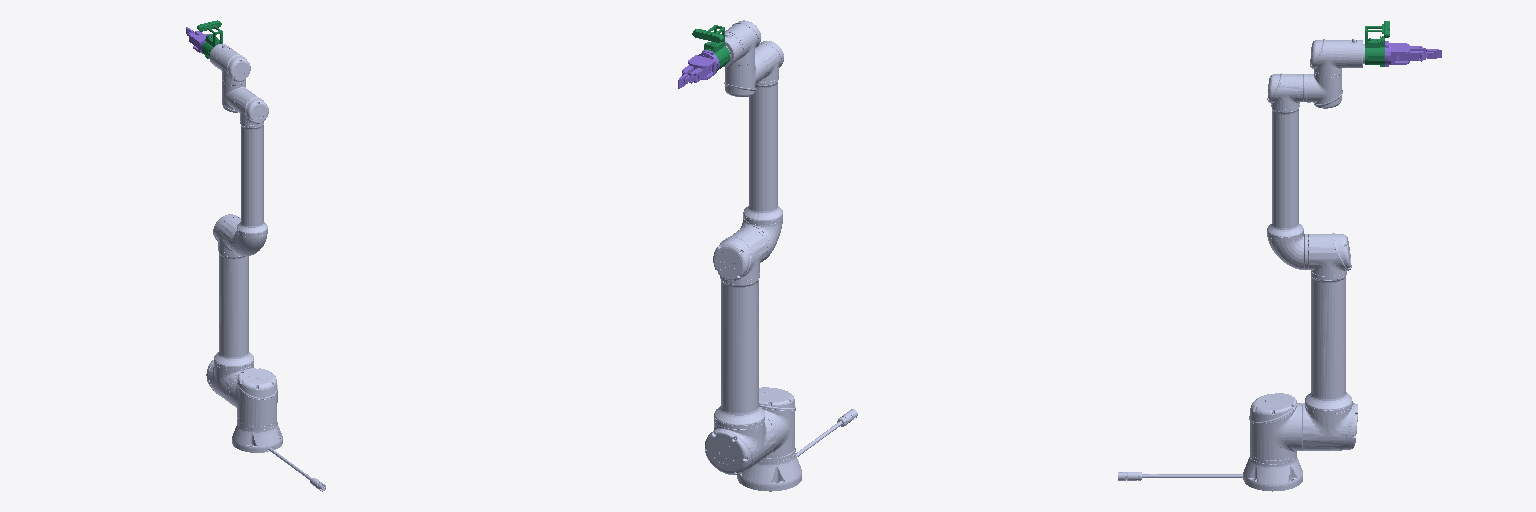
robot.urdf — base_UR:
<?xml version="1.0" encoding="UTF-8"?>
<robot name="base_UR">
	<link name="world" />
	<link name="base_UR">
		<visual>
			<geometry>
				<mesh filename="package://keti_workcell_description/meshes/base1.STL" />
			</geometry>
			<material name="">
				<color rgba="0.89 0.91 0.93 1" />
			</material>
		</visual>
	</link>
	<link name="base_link">
		<visual>
			<geometry>
				<mesh filename="package://keti_workcell_description/meshes/UR10e/base_link.STL" />
			</geometry>
			<material name="">
				<color rgba="0.79216 0.81961 0.9333 1" />
			</material>
		</visual>
	</link>
	<link name="link1">
		<visual>
			<geometry>
				<mesh filename="package://keti_workcell_description/meshes/UR10e/link1.STL" />
			</geometry>
			<material name="">
				<color rgba="0.79216 0.81961 0.93333 1" />
			</material>
		</visual>
	</link>
	<link name="link2">
		<visual>
			<geometry>
				<mesh filename="package://keti_workcell_description/meshes/UR10e/link2.STL" />
			</geometry>
			<material name="">
				<color rgba="0.79216 0.81961 0.93333 1" />
			</material>
		</visual>
	</link>
	<link name="link3">
		<visual>
			<geometry>
				<mesh filename="package://keti_workcell_description/meshes/UR10e/link3.STL" />
			</geometry>
			<material name="">
				<color rgba="0.79216 0.81961 0.93333 1" />
			</material>
		</visual>
	</link>
	<link name="link4">
		<visual>
			<geometry>
				<mesh filename="package://keti_workcell_description/meshes/UR10e/link4.STL" />
			</geometry>
			<material name="">
				<color rgba="0.79216 0.81961 0.93333 1" />
			</material>
		</visual>
	</link>
	<link name="link5">
		<visual>
			<geometry>
				<mesh filename="package://keti_workcell_description/meshes/UR10e/link5.STL" />
			</geometry>
			<material name="">
				<color rgba="0.79216 0.81961 0.93333 1" />
			</material>
		</visual>
	</link>
	<link name="link6">
		<visual>
			<geometry>
				<mesh filename="package://keti_workcell_description/meshes/UR10e/link6.STL" />
			</geometry>
			<material name="">
				<color rgba="0.79216 0.81961 0.93333 1" />
			</material>
		</visual>
	</link>
	<link name="UR_jig">
		<visual>
			<geometry>
				<mesh filename="package://keti_workcell_description/meshes/UR_jig.STL" />
			</geometry>
			<material name="">
				<color rgba="0.69 0.71 0.83 1" />
			</material>
		</visual>
	</link>
	<link name="tool_changer">
		<visual>
			<geometry>
				<mesh filename="package://keti_workcell_description/meshes/tool_changer.STL" />
			</geometry>
			<material name="">
				<color rgba="0.2 0.6 0.4 1" />
			</material>
		</visual>
	</link>
	<link name="koras_2f">
		<visual>
			<geometry>
				<mesh filename="package://keti_workcell_description/meshes/koras_2f.STL" />
			</geometry>
			<material name="">
				<color rgba="0.6 0.5 0.9 1" />
			</material>
		</visual>
	</link>
	<link name="HP_FeederJig">
		<visual>
			<geometry>
				<mesh filename="package://keti_workcell_description/meshes/HP_FeederJig.STL" />
			</geometry>
			<material name="">
				<color rgba="0.5 0.5 0.5 1" />
			</material>
		</visual>
	</link>
	<joint name="base_UR_fixed" type="fixed">
		<origin xyz="0 0 0.0135" rpy="0 0 0" />
		<parent link="world" />
		<child link="base_UR" />
	</joint>
	<joint name="UR_jig_fixed" type="fixed">
		<origin xyz="0.00017 0.04561 0.835" rpy="0 0 0" />
		<parent link="base_UR" />
		<child link="UR_jig" />
	</joint>
	<joint name="base_link_fixed" type="fixed">
		<origin xyz="0 0 0" rpy="0 0 3.1416" />
		<parent link="UR_jig" />
		<child link="base_link" />
	</joint>
	<joint name="q1" type="revolute">
		<origin xyz="0 0 0" rpy="0 0 0" />
		<parent link="base_link" />
		<child link="link1" />
		<axis xyz="0 0 1" />
		<limit lower="-3.14" upper="3.14" effort="100" velocity="10" />
	</joint>
	<joint name="q2" type="revolute">
		<origin xyz="0 0 0.1807" rpy="1.5708 1.5708 0" />
		<parent link="link1" />
		<child link="link2" />
		<axis xyz="0 0 1" />
		<limit lower="-3.14" upper="3.14" effort="100" velocity="10" />
	</joint>
	<joint name="q3" type="revolute">
		<origin xyz="-0.6127 0 0" rpy="0 0 0" />
		<parent link="link2" />
		<child link="link3" />
		<axis xyz="0 0 1" />
		<limit lower="-3.14" upper="3.14" effort="100" velocity="10" />
	</joint>
	<joint name="q4" type="revolute">
		<origin xyz="-0.57155 0 0" rpy="0 0 -1.5708" />
		<parent link="link3" />
		<child link="link4" />
		<axis xyz="0 0 1" />
		<limit lower="-3.14" upper="3.14" effort="100" velocity="10" />
	</joint>
	<joint name="q5" type="revolute">
		<origin xyz="0 0 0.17415" rpy="1.5708 0 0" />
		<parent link="link4" />
		<child link="link5" />
		<axis xyz="0 0 1" />
		<limit lower="-3.14" upper="3.14" effort="100" velocity="10" />
	</joint>
	<joint name="q6" type="revolute">
		<origin xyz="0 0 0.11985" rpy="-1.5708 0 0" />
		<parent link="link5" />
		<child link="link6" />
		<axis xyz="0 0 1" />
		<limit lower="-3.14" upper="3.14" effort="100" velocity="10" />
	</joint>
	<joint name="tool_fixed" type="fixed">
		<origin xyz="0 0 0.18255" rpy="0 0 0" />
		<parent link="link6" />
		<child link="tool_changer" />
	</joint>
	<joint name="koras_2f_fixed" type="fixed">
		<origin xyz="0 0 0" rpy="0 0 0" />
		<parent link="tool_changer" />
		<child link="koras_2f" />
	</joint>
	<joint name="HP_FeederJig_fixed" type="fixed">
		<origin xyz="0.52546 -0.02071 0.82" rpy="1.5709 0 -1.5709" />
		<parent link="base_UR" />
		<child link="HP_FeederJig" />
	</joint>
</robot>

--- Facts derived from the render (not from the file) ---
The picture shows the robot from 3 angles, left to right: view 1: azimuth 30°, elevation 25°; view 2: azimuth 150°, elevation 25°; view 3: azimuth 270°, elevation 25°; orthographic projection.
Robot: base_UR — 13 links, 12 joints (6 revolute, 6 fixed); root link world; default pose: every joint at zero.
Links seen in each view (by area): view 1: link2, link3, link1, base_link, link5; view 2: link2, link3, base_link, link1, link4, koras_2f, link5, tool_changer; view 3: link2, link3, link1, base_link, link5, link4, koras_2f, tool_changer.
Link boxes in pixels (box(x1,y1,x2,y2)): link2: box(206, 214, 253, 403); link3: box(229, 91, 268, 255); link1: box(227, 368, 277, 426); base_link: box(232, 418, 325, 491); link5: box(216, 49, 250, 85); link2: box(705, 228, 775, 474); link3: box(738, 41, 783, 259); base_link: box(737, 409, 857, 491); link1: box(759, 387, 795, 457); link4: box(724, 54, 766, 96); koras_2f: box(678, 50, 719, 88); link5: box(725, 20, 760, 64); tool_changer: box(692, 25, 729, 72); link2: box(1303, 233, 1357, 450); link3: box(1267, 73, 1308, 269); link1: box(1249, 393, 1302, 459); base_link: box(1118, 452, 1302, 491); link5: box(1310, 39, 1345, 77); link4: box(1303, 73, 1342, 108); koras_2f: box(1385, 41, 1441, 66); tool_changer: box(1365, 21, 1389, 66).
Size in the robot's own frame: 0.19 by 1.03 by 1.59 metres.
Meshes: 12 distinct files referenced, 9 mesh visuals loaded (9 binary STL); not drawn: 3 (reference not matched to a file when rendering).